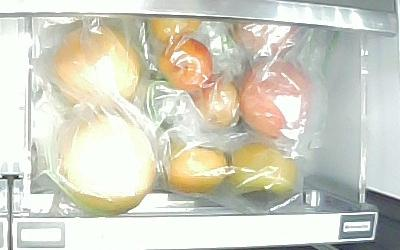apple_vinyl: (241, 59, 315, 139), (229, 19, 301, 58)
grapefruit_vinyl: (57, 113, 157, 213), (53, 25, 142, 107)
persimmon_vinyl: (230, 145, 297, 207), (165, 145, 229, 194)
prune_vinyl: (158, 39, 214, 92), (189, 73, 241, 129), (148, 16, 203, 44)
